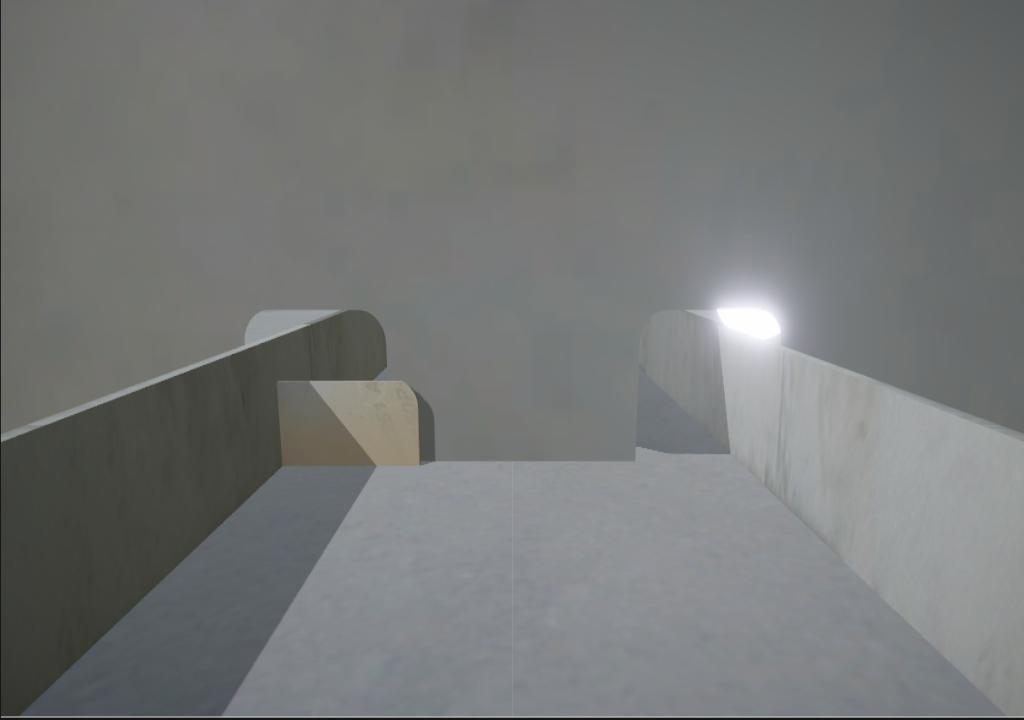fillet_yong_jeop_jang: (419, 451, 645, 473)
plate_CP05: (274, 382, 421, 469)
